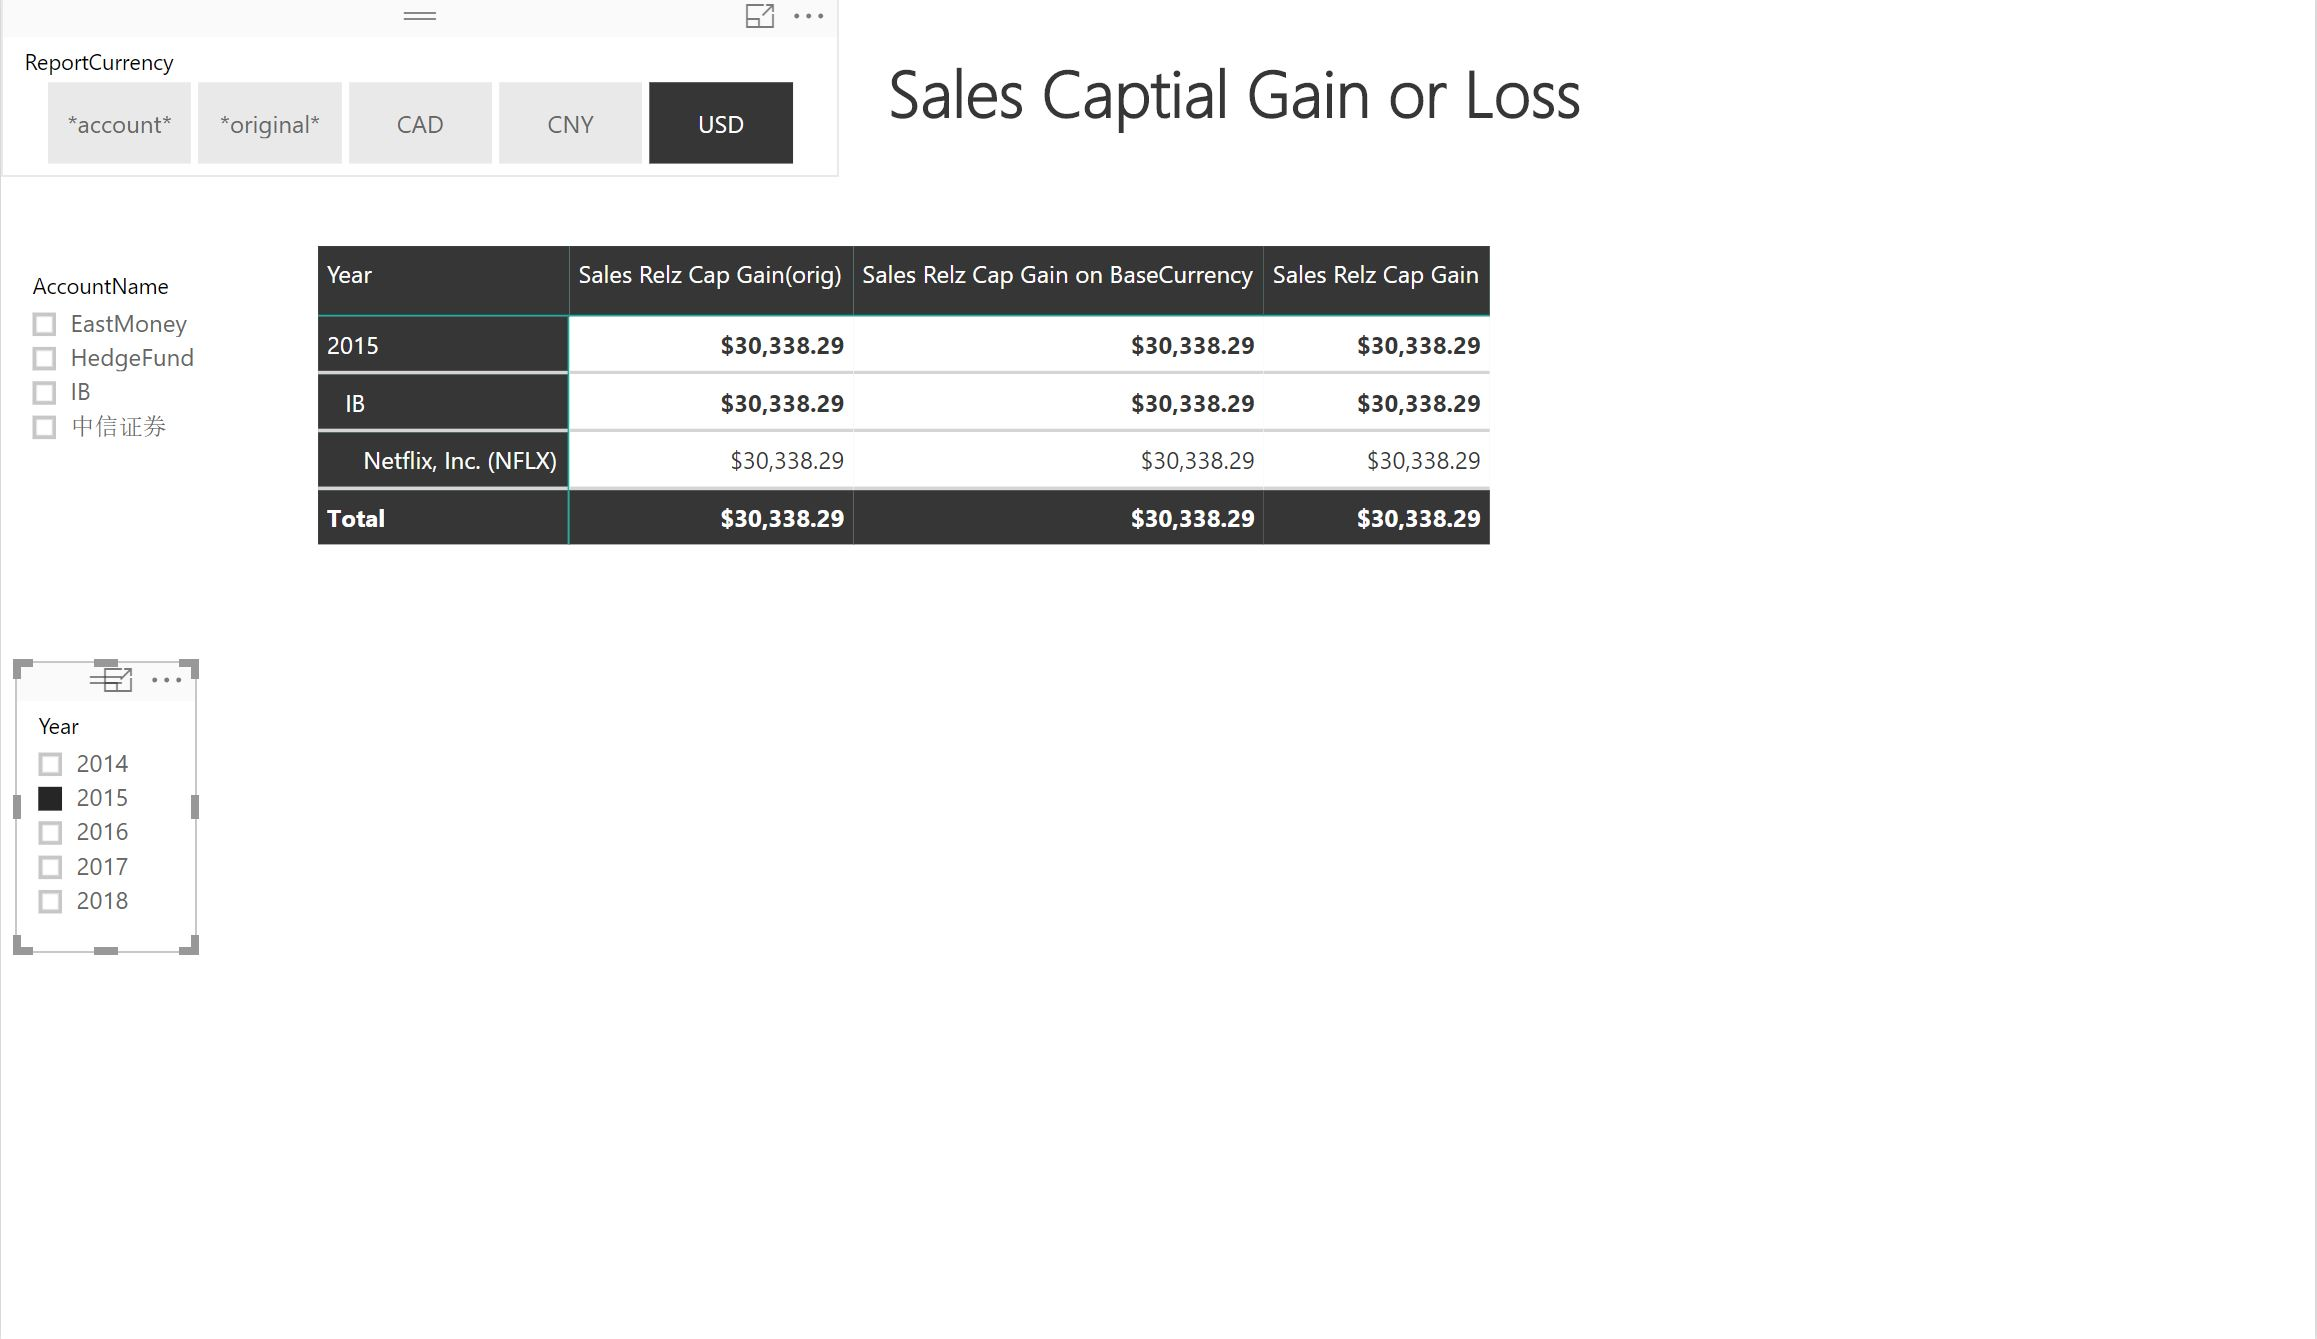

This screenshot's page, from the dashboard's own definition file:
{"tool":"powerbi","page":{"name":"Sales Gain","canvas":[1280,720],"ordinal":7},"visuals":[{"type":"slicer","fields":{"Values":["Accounts.AccountName"]},"box":[4.1,123.7,133.9,229.9],"z":1},{"type":"slicer","fields":{"Values":["ReportCurrency.ReportCurrency"]},"box":[0,0,463.8,77.1],"z":2},{"type":"slicer","fields":{"Values":["Dates.Year"]},"box":[7.4,367.1,101.4,139.3],"z":3},{"type":"pivotTable","fields":{"Rows":["Dates.Year","Accounts.AccountName","Symbols.SymbolName"],"Values":["Report.Sales Relz Cap Gain(orig)","Report.Sales Relz Cap Gain on BaseCurrency","Report.Sales Relz Cap Gain"]},"box":[170.4,110.9,1068.2,607.8],"z":4},{"type":"textbox","box":[485.4,0,793.7,89.2],"z":5}]}

Visuals, with their boxes on the page's 1280x720 design canvas (x1, y1, x2, y2). These are canvas units, not pixel positions in the 2317x1339 screenshot, which may show the page scaled, cropped or inside an application window:
slicer - Accounts.AccountName: [4,124,138,354]
slicer - ReportCurrency.ReportCurrency: [0,0,464,77]
slicer - Dates.Year: [7,367,109,506]
pivotTable - Dates.Year x Accounts.AccountName: [170,111,1239,719]
textbox: [485,0,1279,89]
